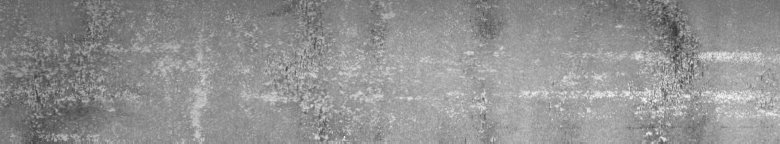hc: (646, 4, 703, 136)
